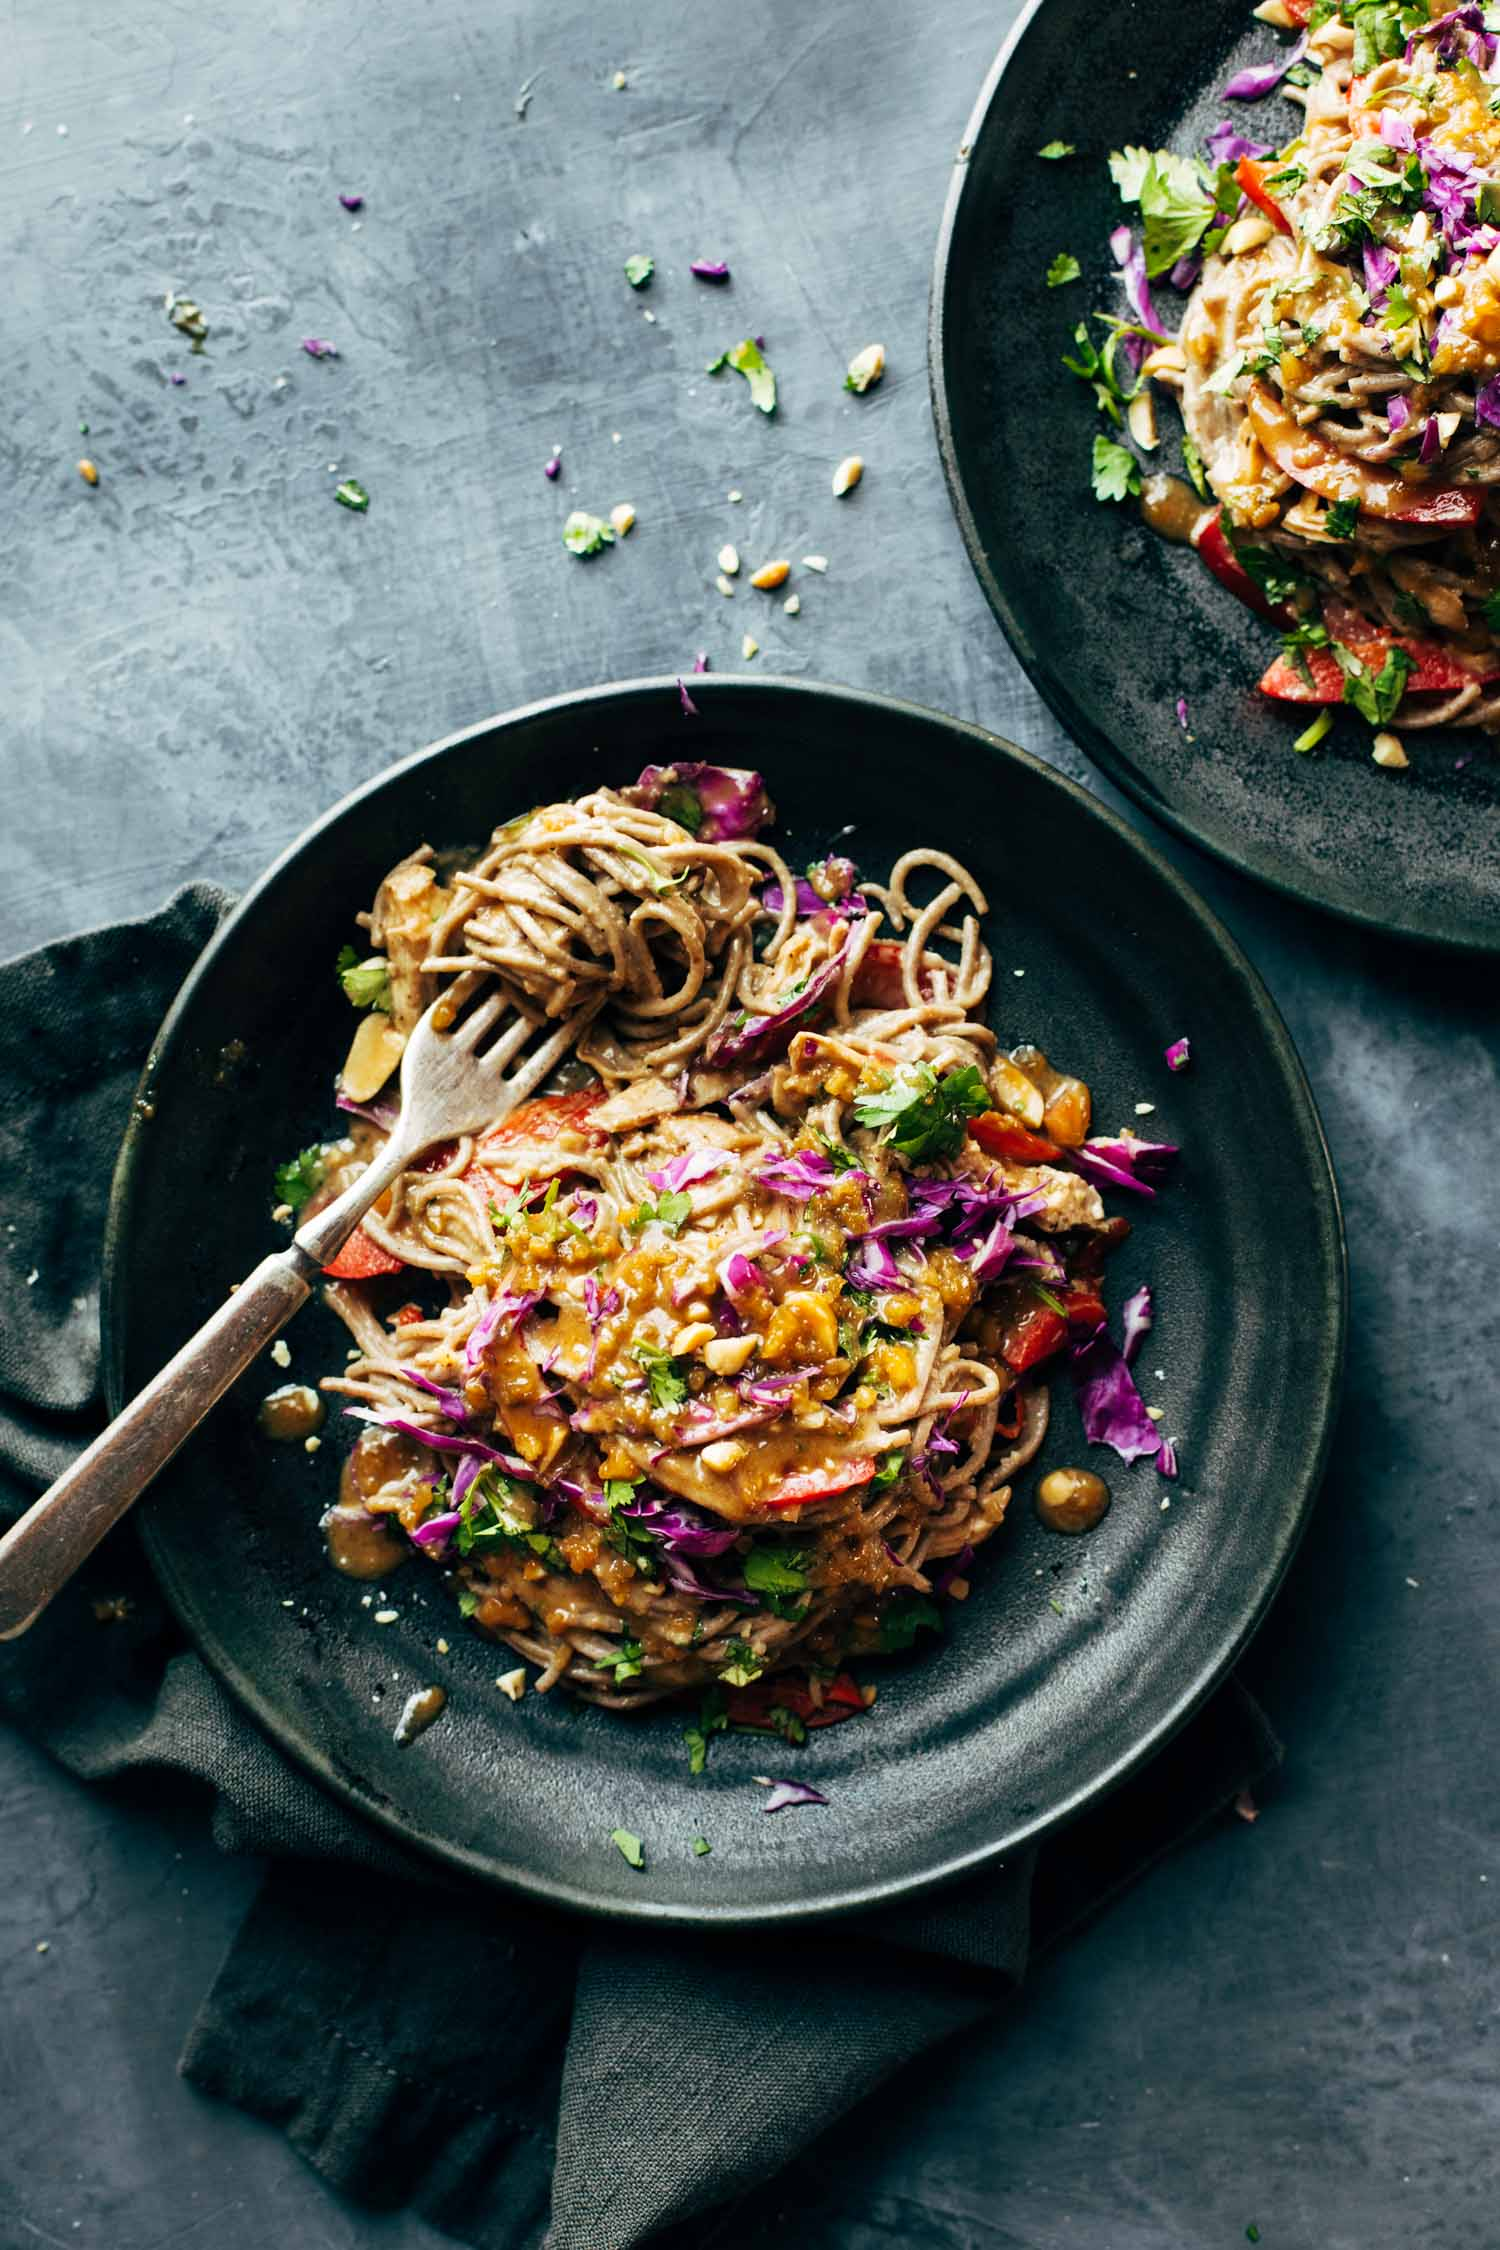Soba: (420, 742, 1051, 1060)
